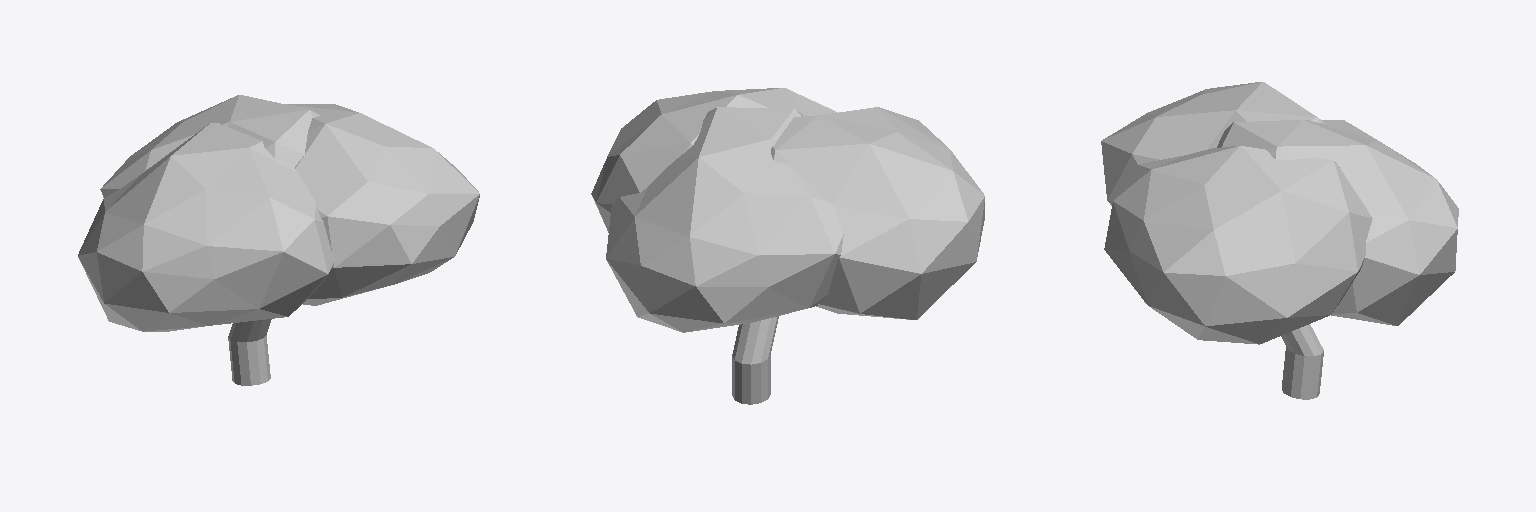
Rendered from Bush.obj.
3 renders of one model, left to right at view 1: azimuth 30°, elevation 25°; view 2: azimuth 150°, elevation 25°; view 3: azimuth 270°, elevation 25°, orthographic.
Visible parts, largest first — view 1: Icosphere.002, Cylinder; view 2: Icosphere.002, Cylinder; view 3: Icosphere.002, Cylinder.
Part boxes in pixels (bbox=[...]): Icosphere.002: bbox=[78, 95, 479, 331]; Cylinder: bbox=[228, 319, 271, 385]; Icosphere.002: bbox=[591, 88, 984, 332]; Cylinder: bbox=[732, 316, 778, 404]; Icosphere.002: bbox=[1101, 82, 1458, 344]; Cylinder: bbox=[1281, 324, 1323, 399].
Bounding box in the file's own units: 2.87 × 2.05 × 2.47.